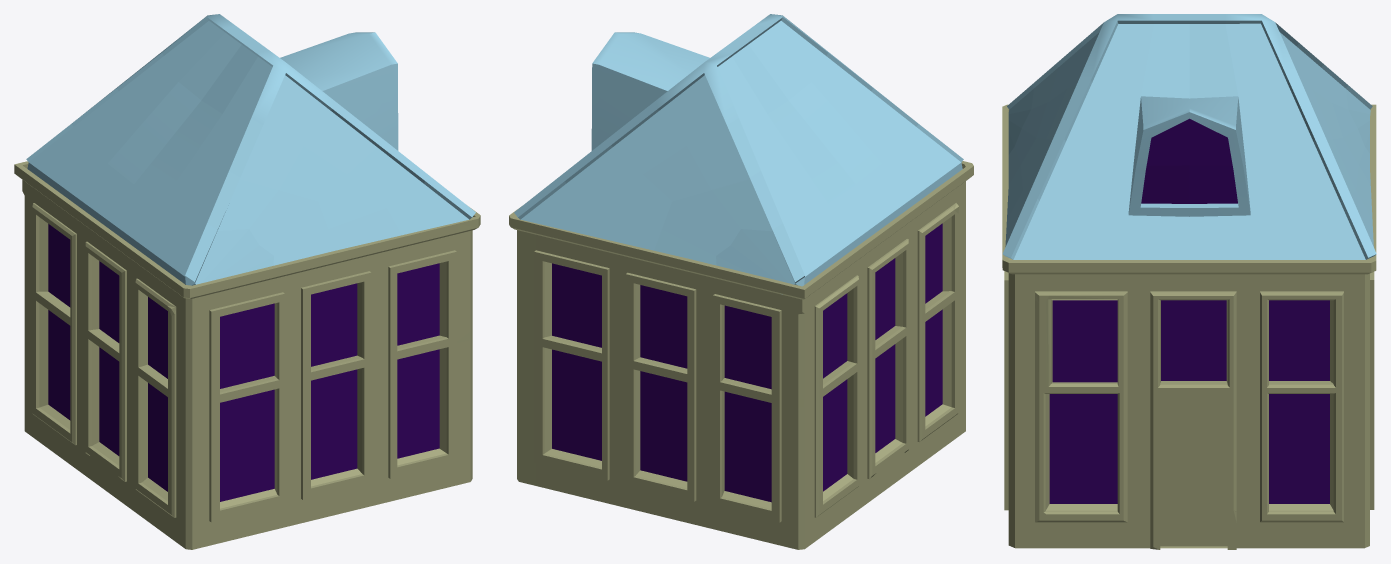
Rendered from House_ArtTest_2.fbx.
The picture shows the model from 3 angles, left to right: view 1: azimuth 30°, elevation 25°; view 2: azimuth 150°, elevation 25°; view 3: azimuth 270°, elevation 25°; orthographic projection. The views are drawn at different scales.
Visible parts, largest first — view 1: pPlane16, pPlane24; view 2: pPlane16, pPlane24; view 3: pPlane16, pPlane24.
Part boxes in pixels (x1=…): pPlane16: x1=14, y1=161, x2=480, y2=549; pPlane24: x1=26, y1=14, x2=475, y2=285; pPlane16: x1=509, y1=161, x2=973, y2=549; pPlane24: x1=514, y1=14, x2=963, y2=294; pPlane16: x1=1002, y1=104, x2=1376, y2=549; pPlane24: x1=1003, y1=14, x2=1376, y2=259.
Bounding box in the file's own units: 6.57 × 8.77 × 6.57.
